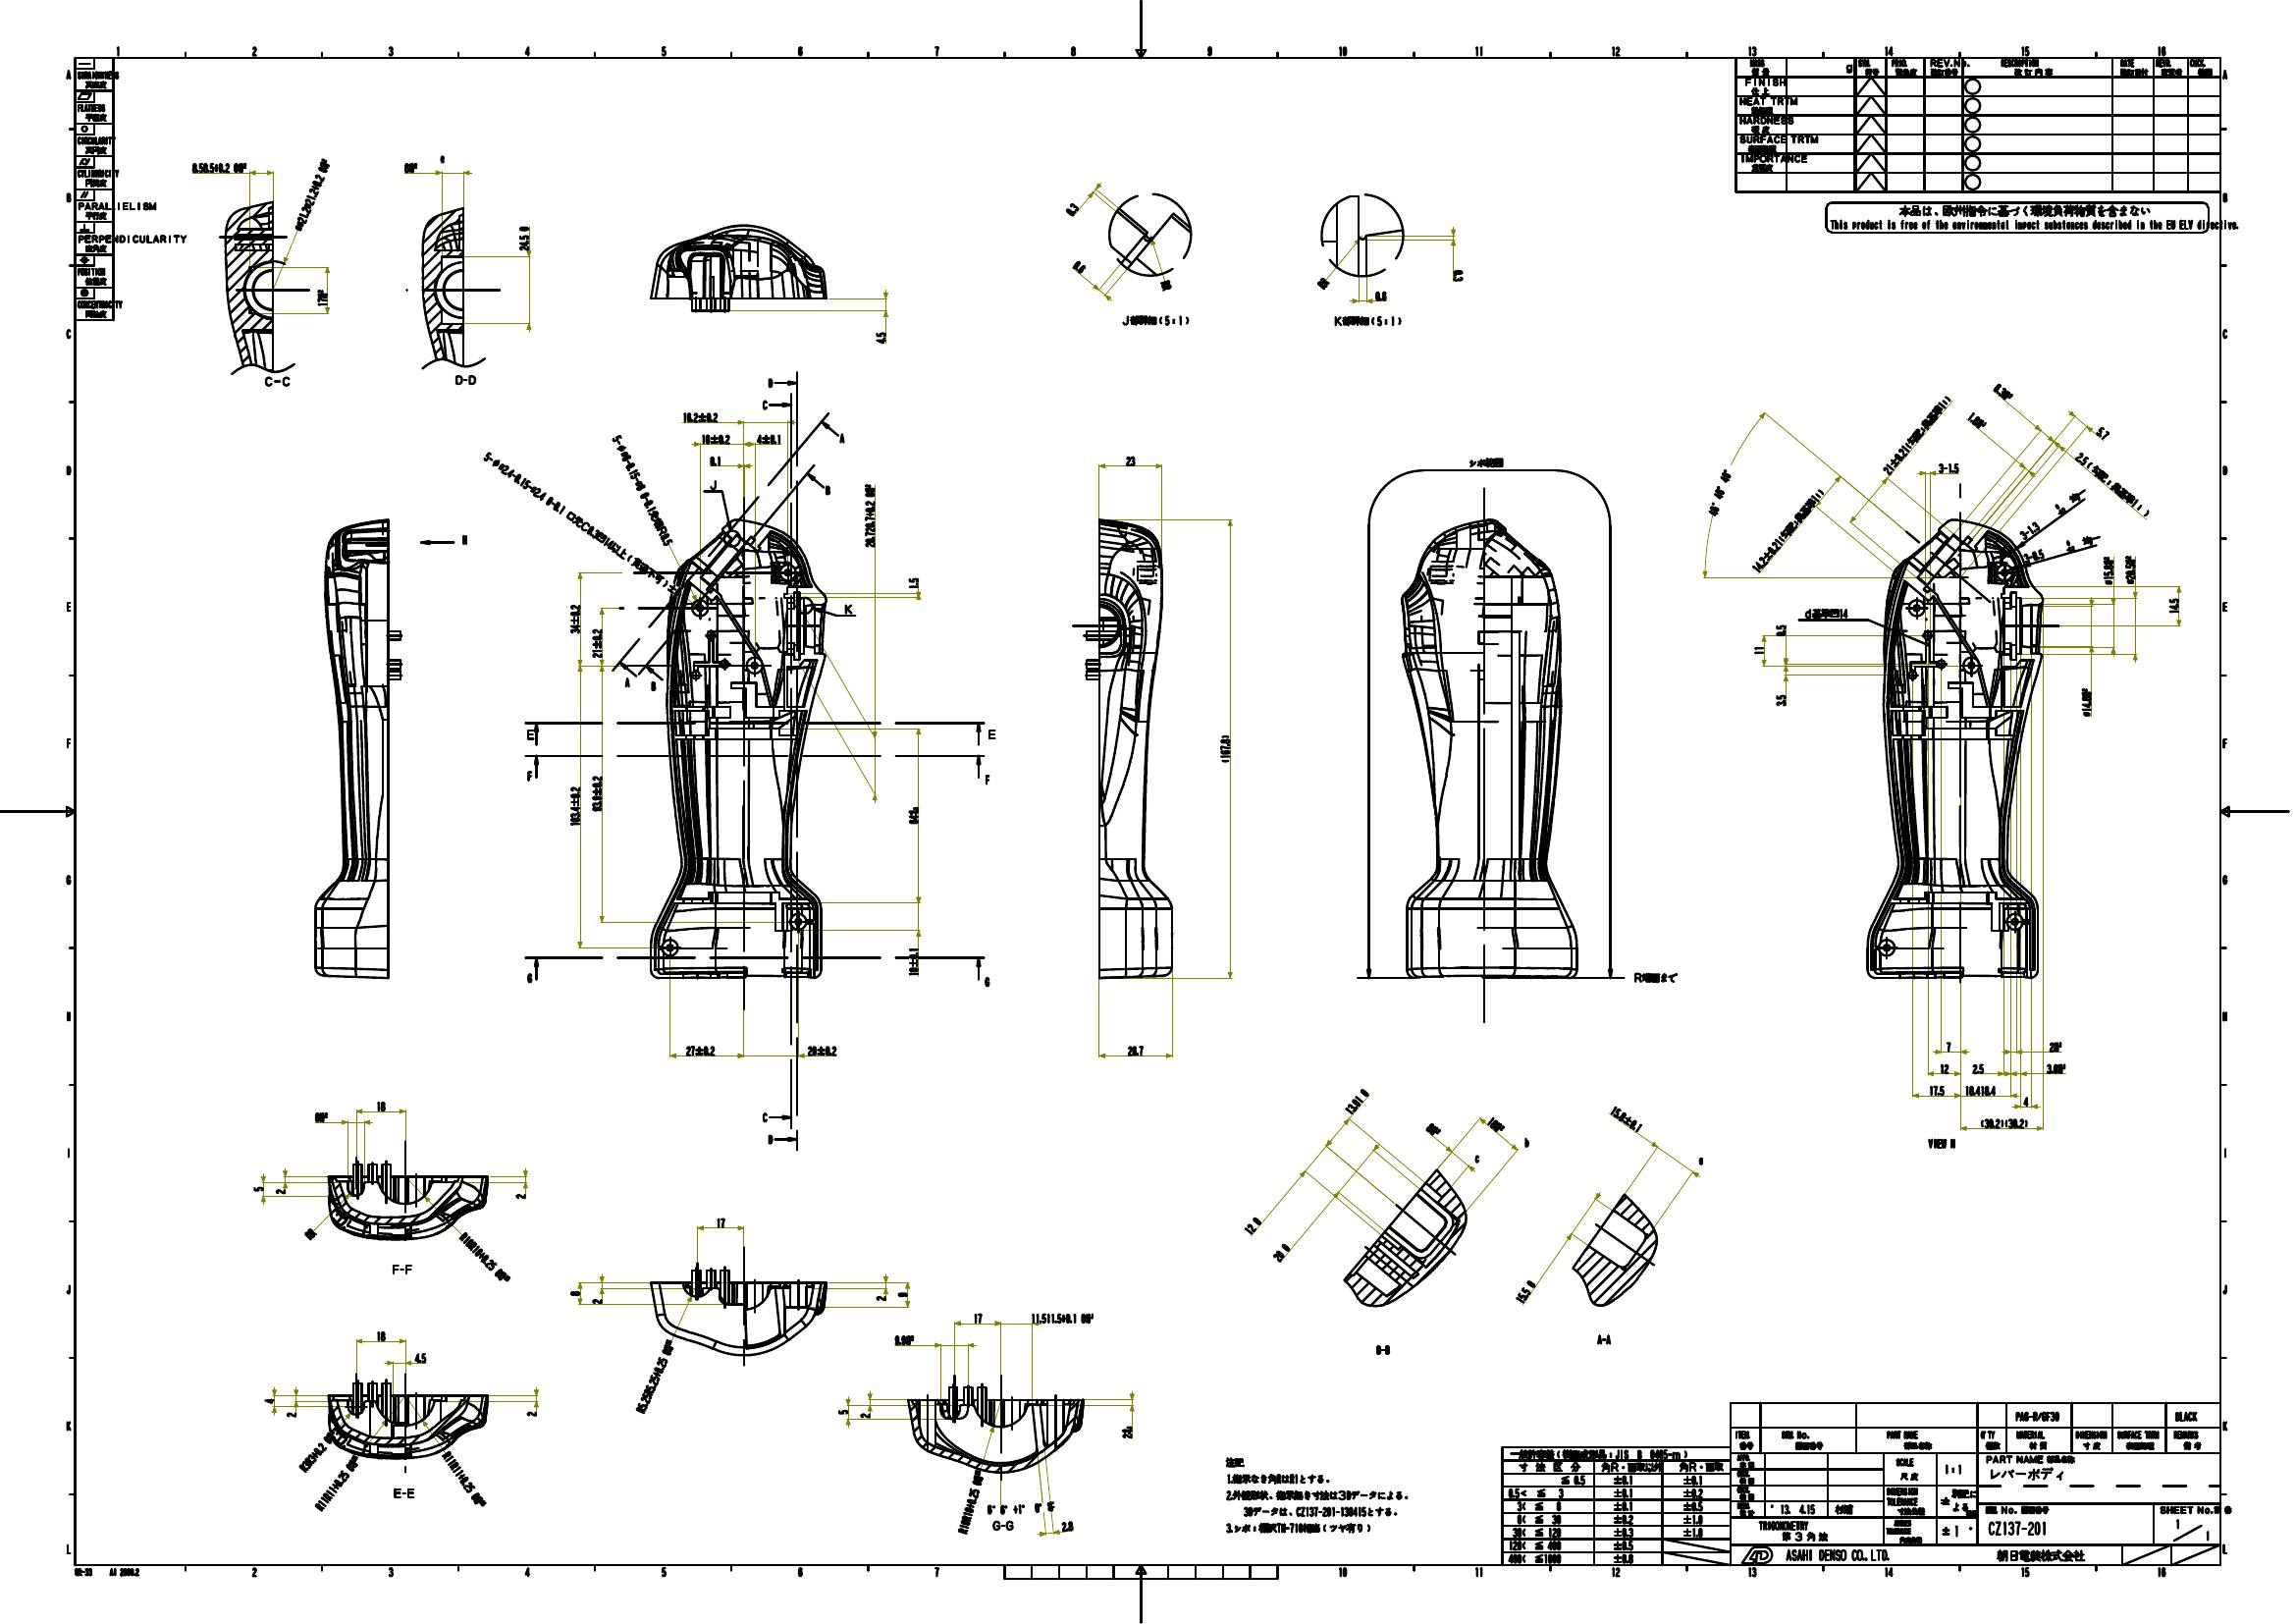anntotation_text: (1224, 1455, 1412, 1536), (1823, 200, 2240, 236), (1117, 313, 1191, 329), (1332, 315, 1404, 330), (1465, 455, 1505, 471), (1632, 972, 1678, 984), (262, 374, 290, 388), (1925, 1137, 1957, 1149), (451, 373, 478, 387), (388, 1262, 413, 1276), (392, 1487, 415, 1501), (989, 1520, 1015, 1531), (1372, 1343, 1393, 1355), (1593, 1334, 1613, 1346), (840, 601, 854, 617), (523, 726, 536, 743), (1693, 1156, 1708, 1169), (1521, 1135, 1532, 1151), (1470, 1151, 1481, 1165), (706, 478, 717, 492), (764, 1132, 773, 1146), (982, 975, 991, 990), (982, 772, 991, 786), (523, 768, 532, 782), (460, 533, 469, 547), (822, 482, 831, 496), (838, 431, 845, 448), (764, 376, 773, 390), (761, 397, 768, 413), (761, 1111, 769, 1123), (987, 728, 996, 740), (622, 677, 631, 689), (648, 680, 657, 692), (525, 972, 532, 986)
dimension_text: (462, 511, 690, 529), (578, 482, 704, 497), (1734, 524, 1841, 538), (613, 1367, 696, 1385), (2011, 504, 2094, 522), (2066, 476, 2161, 490), (2022, 540, 2105, 555), (859, 482, 878, 548), (272, 186, 351, 202), (1867, 429, 1967, 441), (448, 1250, 518, 1265), (933, 1494, 1008, 1508), (425, 1473, 499, 1487), (1028, 1311, 1096, 1325), (302, 1476, 374, 1489), (1693, 483, 1746, 499), (288, 1443, 351, 1455), (1801, 606, 1850, 620), (190, 162, 246, 174), (1606, 1111, 1646, 1127), (588, 773, 604, 814), (567, 784, 581, 826), (1980, 1118, 2027, 1130), (682, 410, 720, 424), (1964, 1083, 1997, 1098), (1339, 1093, 1375, 1107), (984, 1503, 1024, 1515), (701, 431, 731, 446), (754, 431, 783, 446), (906, 944, 921, 977), (567, 601, 581, 634), (588, 626, 603, 659), (2099, 554, 2113, 585), (2122, 554, 2136, 585), (2080, 684, 2092, 719), (682, 1044, 717, 1056), (516, 223, 531, 253), (805, 1044, 838, 1056), (1509, 1285, 1541, 1297), (1219, 733, 1231, 765), (1989, 385, 2015, 399), (1240, 1218, 1263, 1234), (1270, 1244, 1291, 1260), (1484, 1118, 1507, 1132), (891, 1334, 915, 1346), (1031, 1501, 1056, 1513), (2043, 1062, 2068, 1074), (1936, 462, 1960, 475), (1966, 415, 1989, 427), (314, 288, 329, 308), (1124, 1044, 1145, 1056), (2047, 1039, 2064, 1053), (299, 1227, 316, 1241), (1927, 1084, 1946, 1097), (2168, 596, 2180, 615), (313, 1109, 329, 1123), (588, 1294, 604, 1308), (1969, 1062, 1985, 1076), (2094, 425, 2110, 439), (906, 805, 917, 826), (411, 1352, 427, 1366), (1058, 1520, 1075, 1533), (873, 329, 885, 346), (1063, 202, 1080, 214), (1070, 260, 1087, 272), (1121, 1422, 1131, 1441), (1773, 624, 1787, 638), (1374, 288, 1388, 302), (1451, 267, 1465, 281), (566, 1287, 581, 1299), (1425, 1123, 1440, 1135), (906, 575, 919, 591), (706, 453, 722, 466), (402, 162, 418, 174), (970, 1311, 982, 1325), (1751, 643, 1765, 656), (1123, 455, 1137, 468), (374, 1329, 386, 1343), (856, 1411, 871, 1422), (1158, 279, 1173, 290), (1938, 1062, 1950, 1074), (272, 1186, 286, 1197), (715, 1214, 726, 1229), (1774, 692, 1785, 707), (513, 1192, 527, 1202), (873, 1294, 889, 1302), (374, 1100, 385, 1113), (525, 1408, 538, 1418), (1316, 279, 1330, 288), (249, 1185, 264, 1193), (894, 1290, 906, 1299), (437, 153, 446, 165), (283, 1411, 297, 1418), (2022, 1095, 2029, 1107), (262, 1397, 274, 1404), (836, 1408, 847, 1415), (1946, 1040, 1950, 1051)
object: (1398, 517, 1579, 981), (648, 517, 829, 979), (1866, 517, 2043, 981), (313, 515, 404, 981), (1084, 517, 1173, 979), (1340, 1167, 1467, 1308), (648, 1267, 829, 1359), (905, 1385, 1086, 1475), (648, 223, 827, 313), (327, 1380, 488, 1461), (327, 1162, 488, 1241), (1569, 1192, 1658, 1308), (223, 199, 274, 373), (418, 206, 466, 367), (1318, 195, 1405, 278), (1107, 206, 1193, 278)
title_block: (1729, 1401, 2222, 1566), (1734, 56, 2224, 193), (1500, 1445, 1734, 1566), (72, 56, 114, 322)
